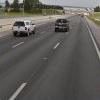Car: (51, 13, 74, 43)
